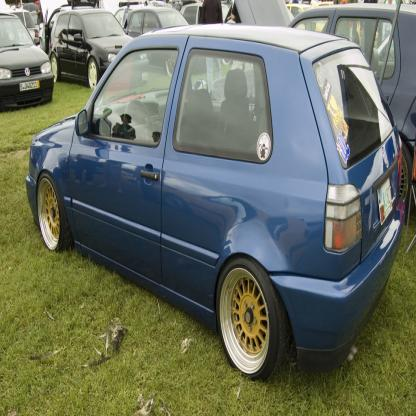Car: (1, 1, 416, 383)
